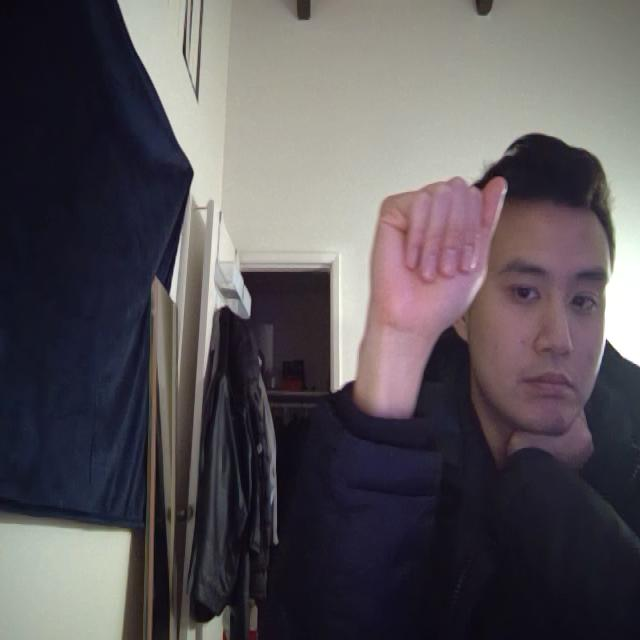A: (350, 159, 521, 366)
